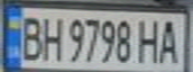7: (81, 15, 100, 63)
8: (115, 16, 136, 64)
9: (63, 15, 84, 62), (100, 16, 118, 63)
A: (154, 16, 184, 64)
B: (15, 12, 45, 61)
H: (36, 12, 66, 62), (136, 16, 163, 64)
